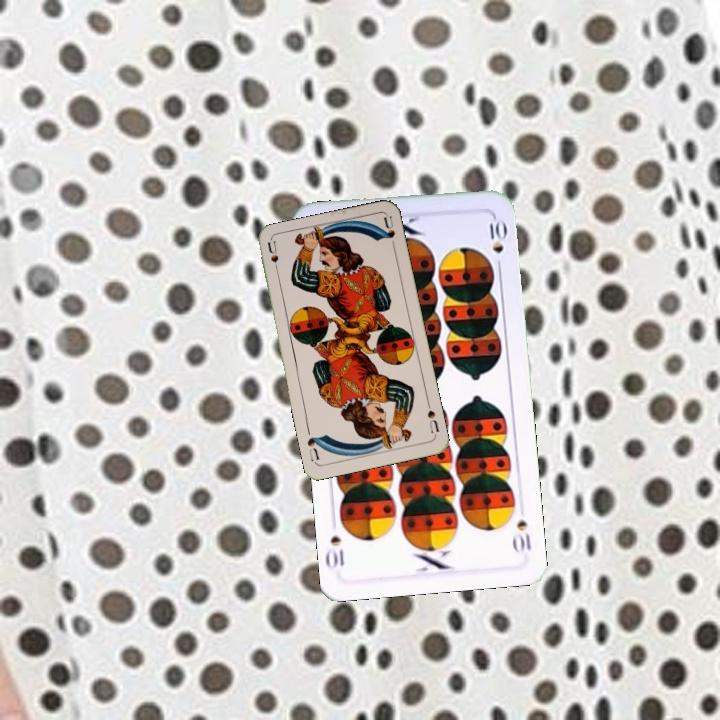S10: (509, 514, 533, 555)
SU: (264, 238, 282, 279), (423, 398, 442, 436)
